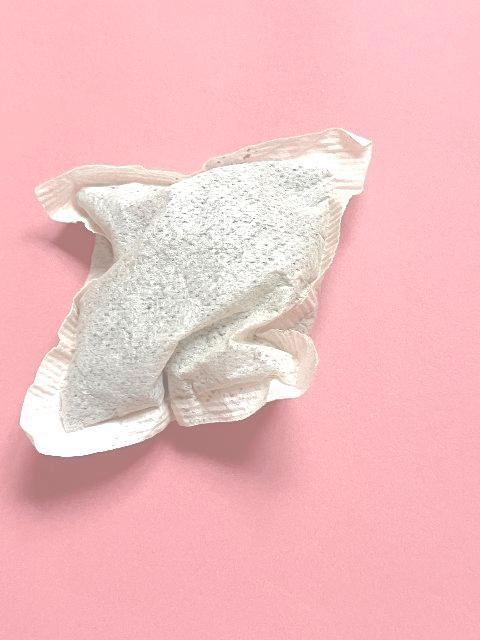teabag: (19, 127, 374, 461)
